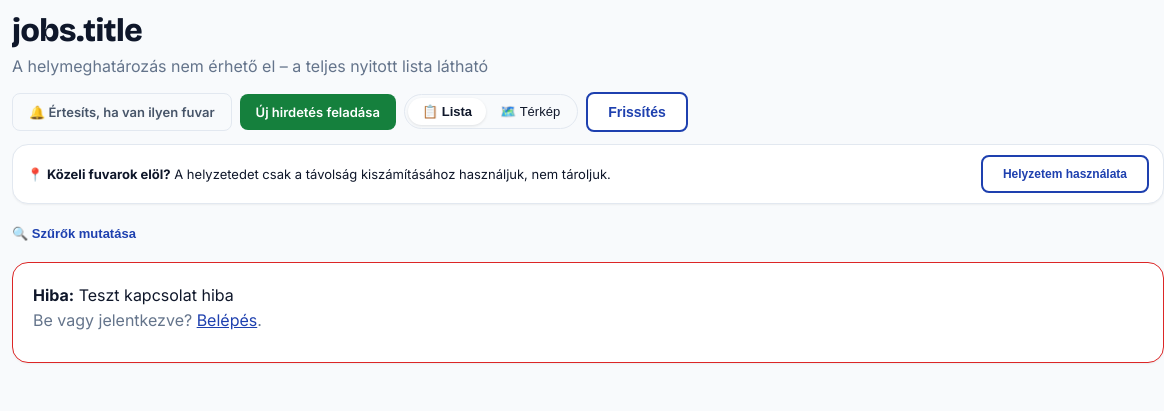
Test: sikeres újrapróbálás törli a korábbi hibaüzenetet
Check: the text "Hiba: Teszt kapcsolat hiba Be vagy jelentkezve? Belépés ." is shown, box [12, 262, 1163, 363]
Click the button "Frissítés".
click(637, 112)  # box [586, 92, 688, 132]
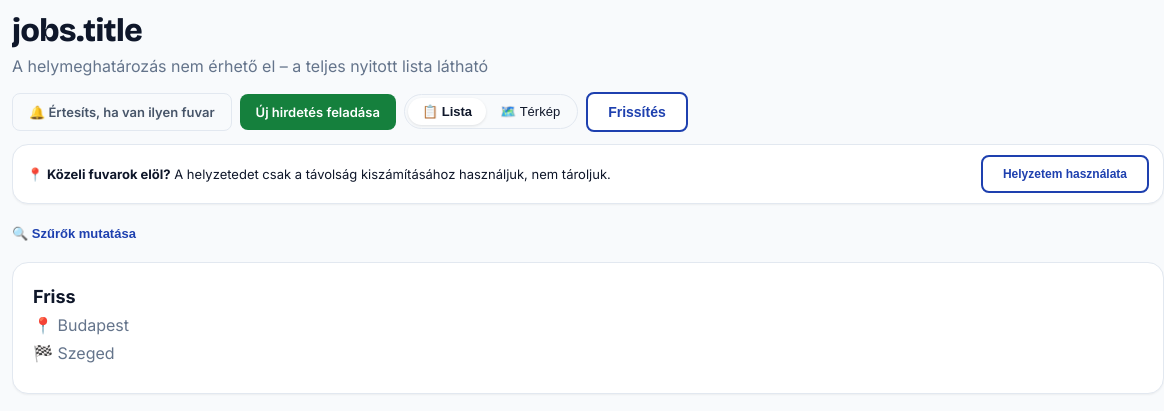
Check: the text "Teszt kapcsolat hiba" is gone
Check: the heading "Friss" is shown, box [33, 283, 76, 311]
